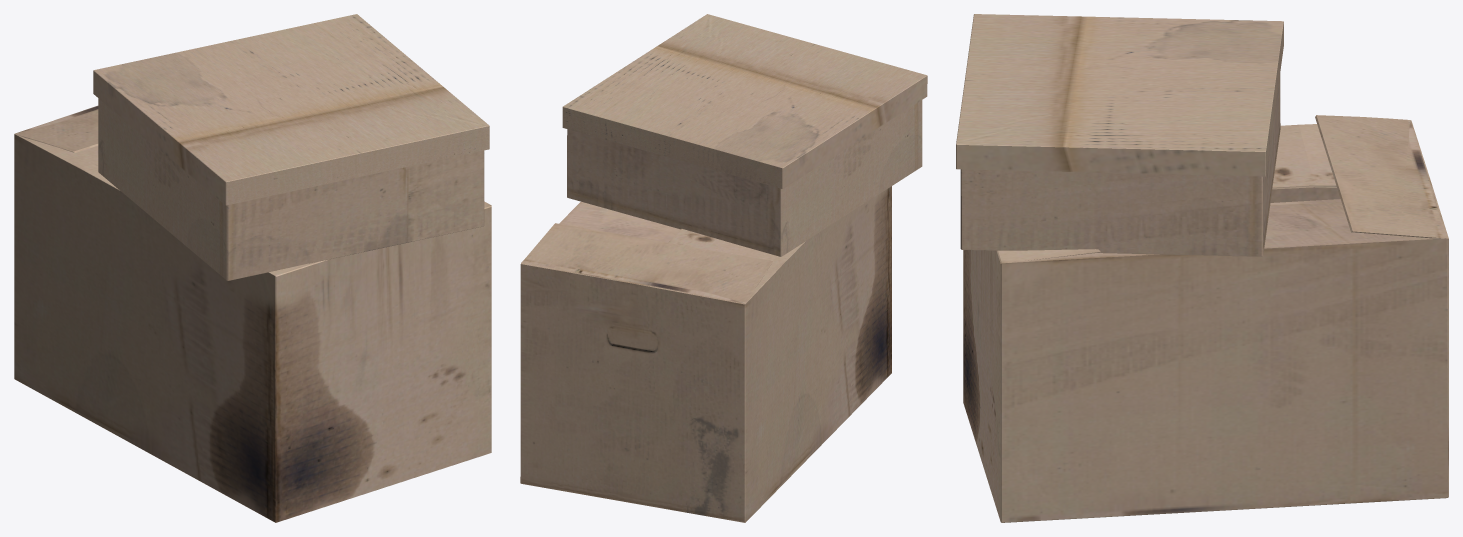
The model's file is stage4_box1.fbx.
3 renders of one model, left to right at view 1: azimuth 30°, elevation 25°; view 2: azimuth 150°, elevation 25°; view 3: azimuth 270°, elevation 25°, orthographic. The views are drawn at different scales.
Visible parts, largest first — view 1: stage4_box1; view 2: stage4_box1; view 3: stage4_box1.
Part boxes in pixels (x1=…): stage4_box1: x1=14, y1=14, x2=491, y2=522; stage4_box1: x1=520, y1=14, x2=927, y2=522; stage4_box1: x1=956, y1=14, x2=1448, y2=522.
Size of the model in its own units: 64.83 by 76.47 by 93.07.
